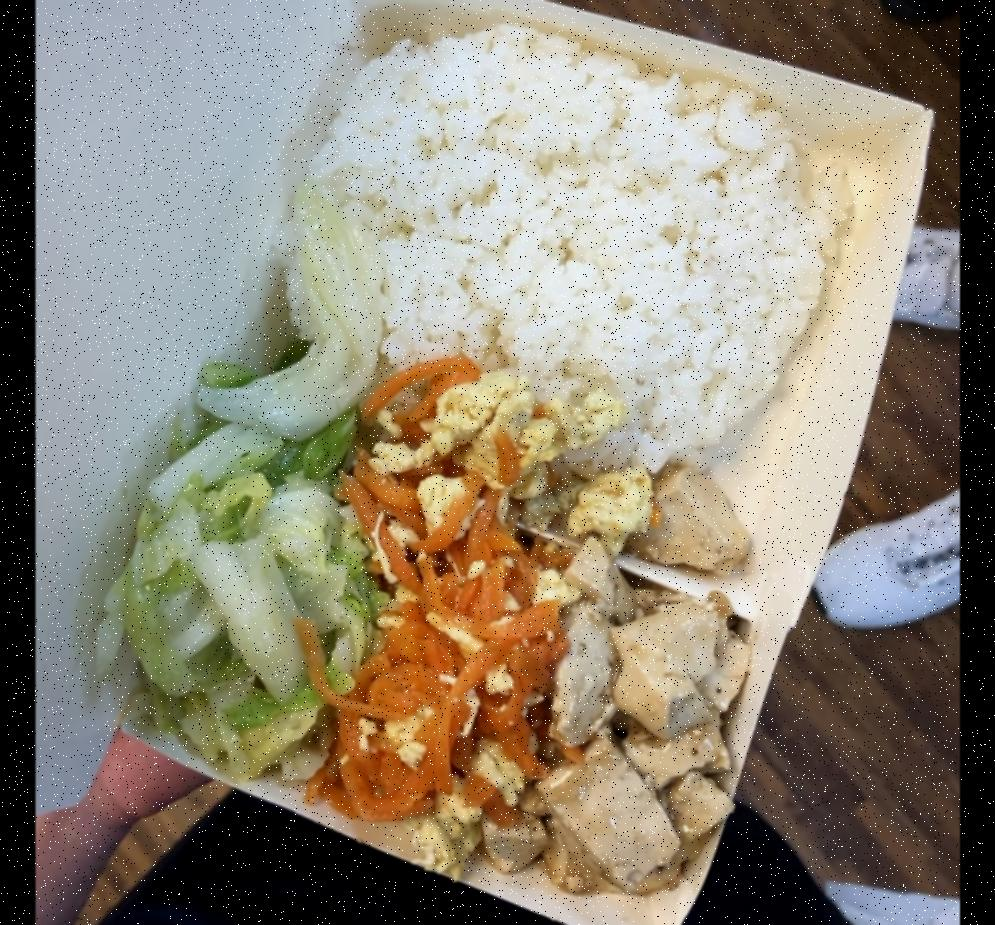big grilled chicken leg: (227, 0, 942, 925)
big herbal chicken leg: (268, 5, 841, 482)
braised fish fillet: (89, 189, 371, 780), (318, 357, 644, 847), (540, 467, 753, 902)
